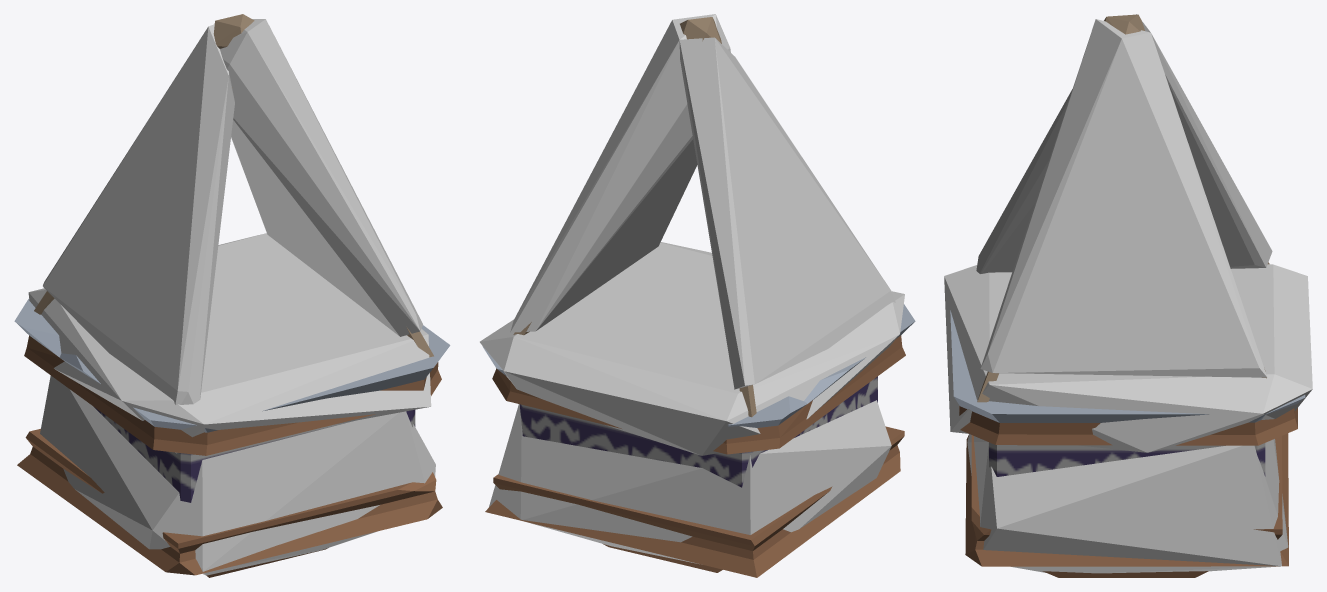
The model's file is SM_Prop_Hanging_Plant_02.fbx.
3 views of the same model, side by side, from view 1: azimuth 30°, elevation 25°; view 2: azimuth 150°, elevation 25°; view 3: azimuth 270°, elevation 25° (orthographic). The views are drawn at different scales.
Visible parts, largest first — view 1: SM_Prop_Hanging_Plant_02_ConvexHulls, SM_Prop_Hanging_Plant_02; view 2: SM_Prop_Hanging_Plant_02_ConvexHulls, SM_Prop_Hanging_Plant_02; view 3: SM_Prop_Hanging_Plant_02_ConvexHulls, SM_Prop_Hanging_Plant_02.
Part boxes in pixels (x1,y1,x2,y2): SM_Prop_Hanging_Plant_02_ConvexHulls: (28, 19, 435, 575); SM_Prop_Hanging_Plant_02: (14, 14, 450, 577); SM_Prop_Hanging_Plant_02_ConvexHulls: (480, 14, 904, 564); SM_Prop_Hanging_Plant_02: (482, 17, 915, 577); SM_Prop_Hanging_Plant_02_ConvexHulls: (944, 14, 1312, 573); SM_Prop_Hanging_Plant_02: (950, 14, 1305, 577).
Size of the model in its own units: 87.11 by 87 by 139.
2 materials, 1 textured.
